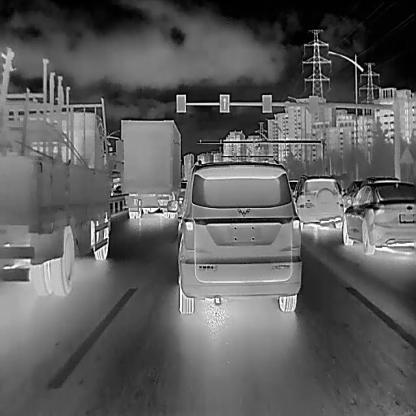car: (0, 90, 124, 297), (176, 159, 302, 314), (119, 117, 182, 219), (340, 179, 415, 254), (291, 174, 343, 229), (341, 178, 371, 213)
